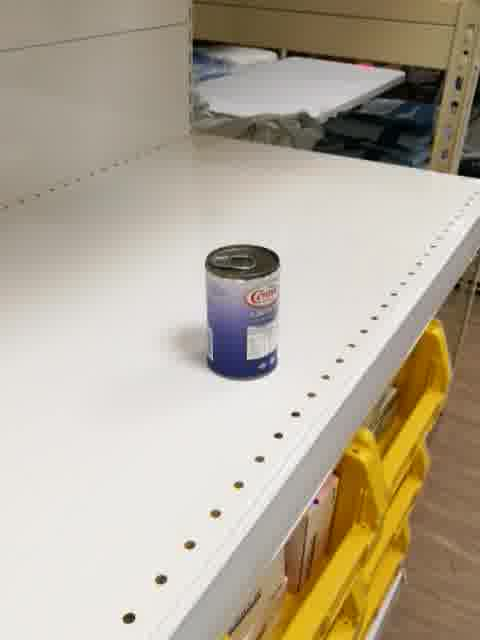sardine: (203, 242, 282, 382)
